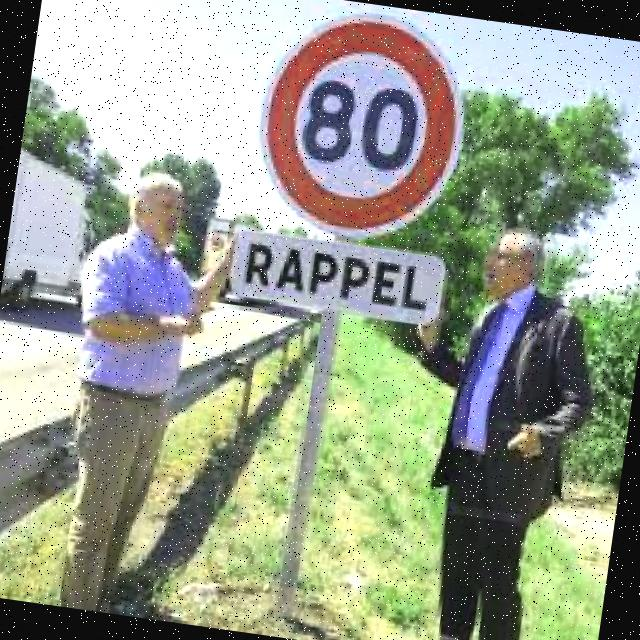Ograniczenie predkosci do 80: (262, 22, 462, 243)
